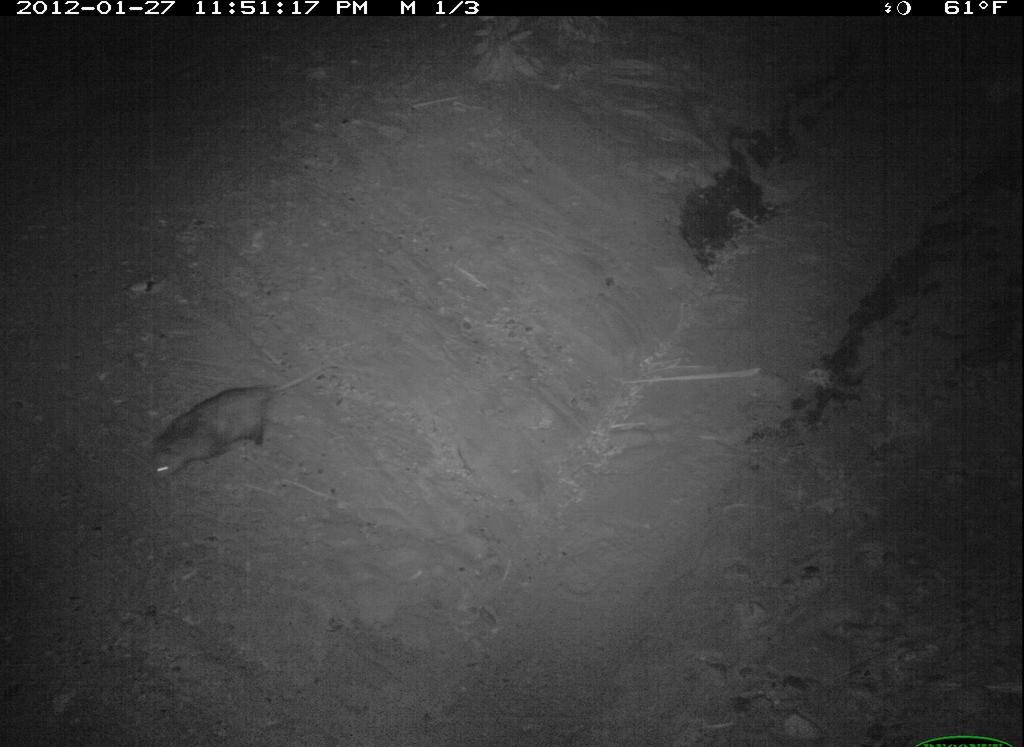opossum: (94, 350, 337, 513)
